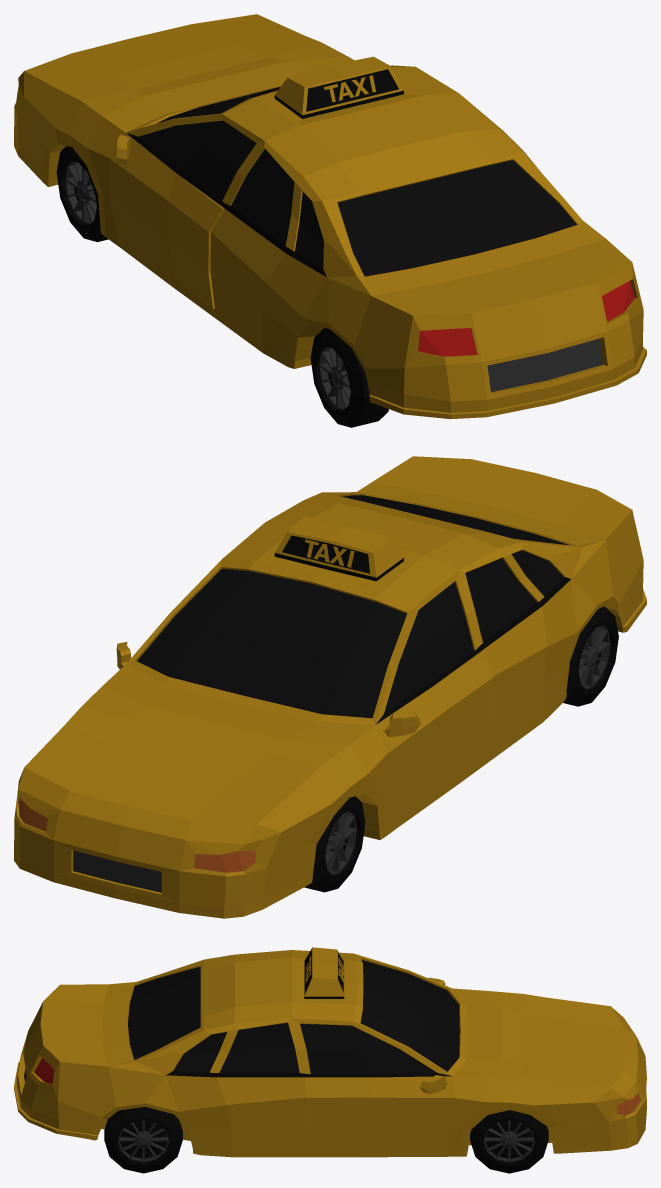
File: Taxi.glb
3 renders of one model, top to bottom at view 1: azimuth 30°, elevation 25°; view 2: azimuth 150°, elevation 25°; view 3: azimuth 270°, elevation 25°, orthographic. The views are drawn at different scales.
Parts seen in each view (by area): view 1: Taxi_Cube.009, Taxi_BackWheels_Cube.010, Taxi_FrontLeftWheel_Cube.013; view 2: Taxi_Cube.009, Taxi_BackWheels_Cube.010, Taxi_FrontLeftWheel_Cube.013; view 3: Taxi_Cube.009, Taxi_BackWheels_Cube.010, Taxi_FrontRightWheel_Cube.014.
Part boxes in pixels (<box>): Taxi_Cube.009: <box>14,14,646,419</box>; Taxi_BackWheels_Cube.010: <box>310,328,388,427</box>; Taxi_FrontLeftWheel_Cube.013: <box>56,146,108,241</box>; Taxi_Cube.009: <box>14,456,646,918</box>; Taxi_BackWheels_Cube.010: <box>563,606,618,706</box>; Taxi_FrontLeftWheel_Cube.013: <box>304,796,365,892</box>; Taxi_Cube.009: <box>14,947,646,1157</box>; Taxi_BackWheels_Cube.010: <box>104,1107,182,1173</box>; Taxi_FrontRightWheel_Cube.014: <box>470,1110,548,1173</box>.
Size of the model in its own units: 1.8 by 1.31 by 4.5.
